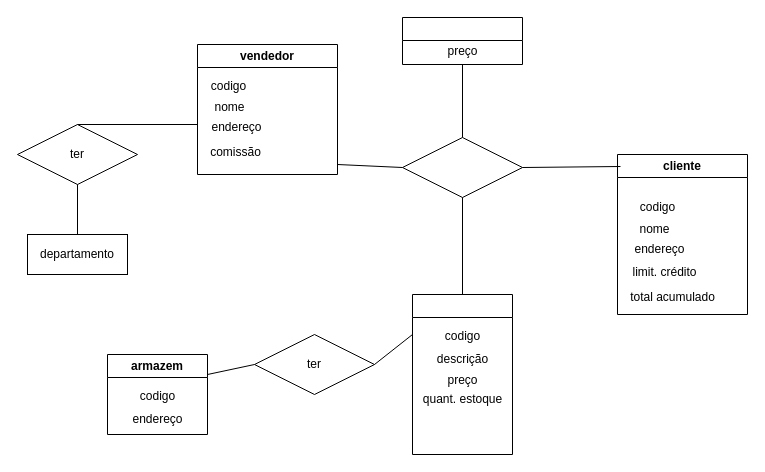
The diagram is 765 pixels wide and 472 high, and some of its shapes have lost their labels. Each missing label, with the box of its shape:
atender: (402, 136, 522, 198)
data: (402, 16, 522, 64)
peça: (412, 294, 512, 454)
